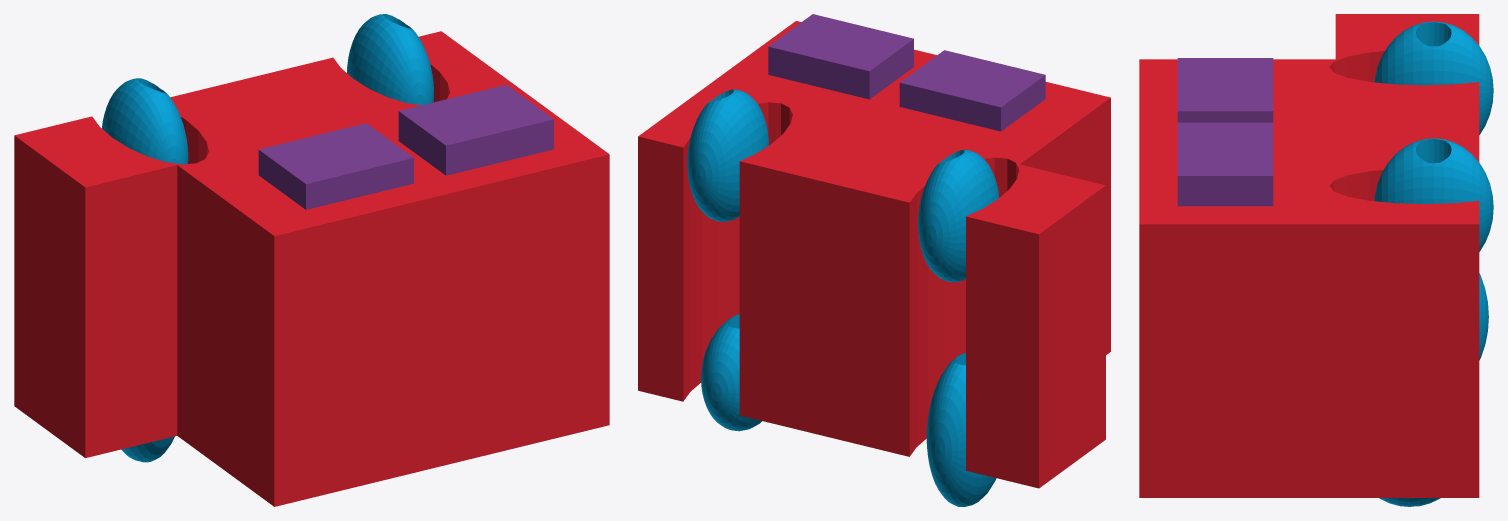
The model's file is tinker.obj.
The picture shows the model from 3 angles, left to right: view 1: azimuth 30°, elevation 25°; view 2: azimuth 150°, elevation 25°; view 3: azimuth 270°, elevation 25°; orthographic projection. The views are drawn at different scales.
Parts seen in each view (by area): view 1: group_0_15277357, group_0_8273816, group_0_40919; view 2: group_0_15277357, group_0_40919, group_0_8273816; view 3: group_0_15277357, group_0_8273816, group_0_40919.
Boxes of the visible parts, <box> form: group_0_15277357: <box>14,31,609,506</box>; group_0_8273816: <box>258,84,553,209</box>; group_0_40919: <box>102,14,433,462</box>; group_0_15277357: <box>638,21,1110,488</box>; group_0_40919: <box>687,89,999,506</box>; group_0_8273816: <box>768,14,1045,131</box>; group_0_15277357: <box>1139,14,1479,497</box>; group_0_8273816: <box>1177,58,1273,206</box>; group_0_40919: <box>1374,21,1493,506</box>.
Size of the model in its own units: 104 by 87 by 74.
